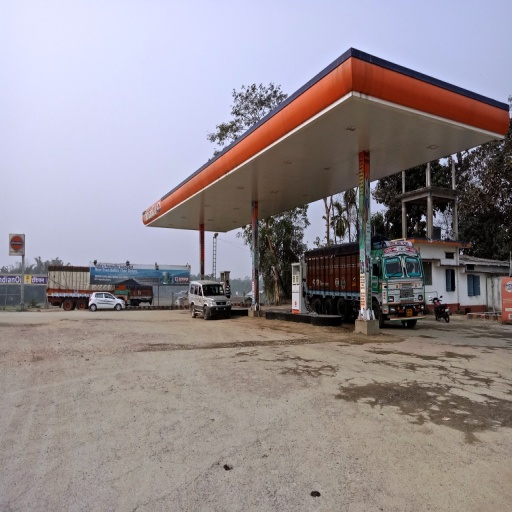roof: (140, 47, 511, 224)
